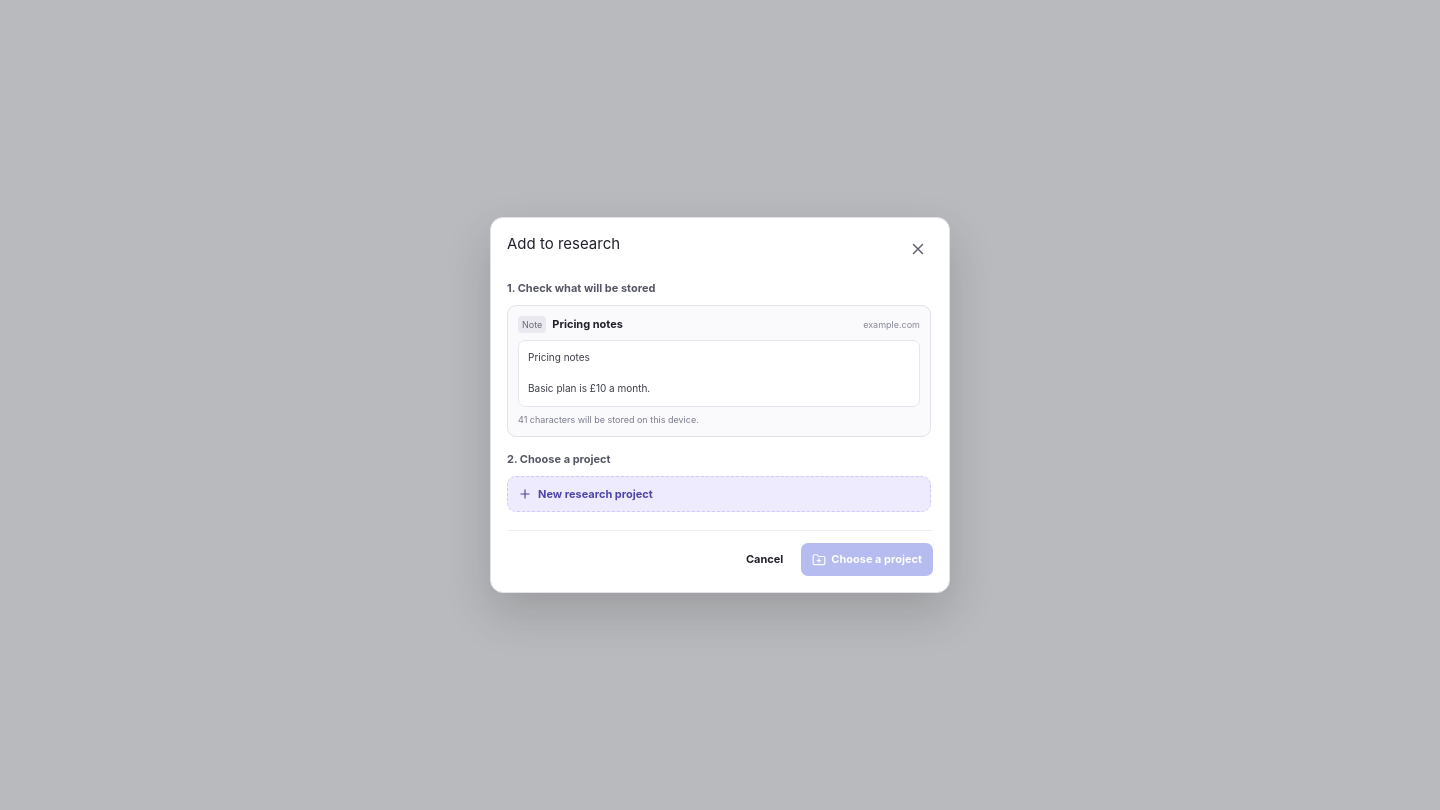
Test: Add to research dialog › creates a project from the dialog when none exist
Expected: the text named "Text that will be stored" is shown, [518, 340, 920, 407]
Expected: the button "Choose a project" is disabled, [801, 543, 933, 576]
Click the button "New research project": [595, 494] box [507, 476, 931, 512]
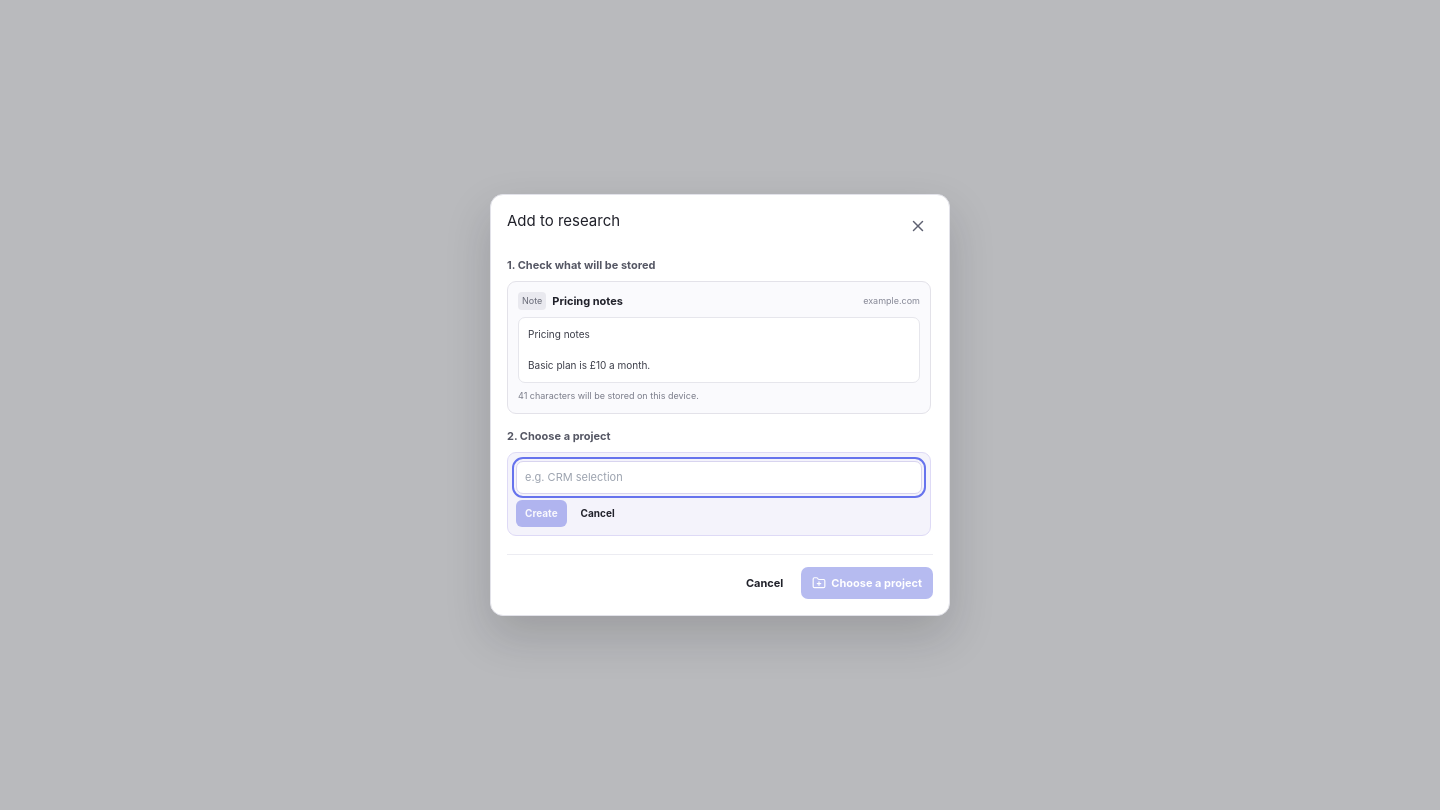
In the field named "Project name": [719, 478] box [516, 461, 922, 494], type "Pricing research"
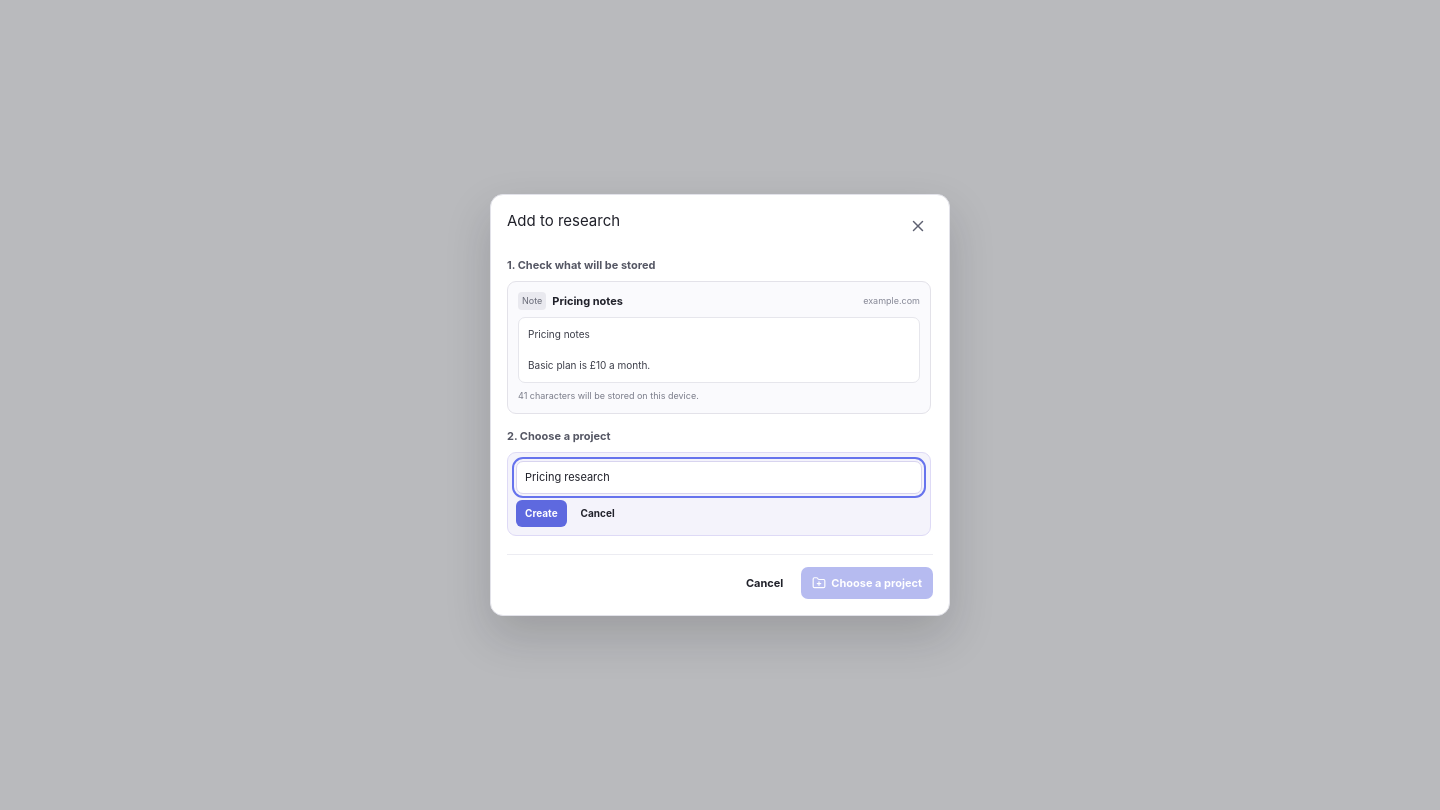
Click the button "Create": [541, 513] box [516, 500, 567, 527]
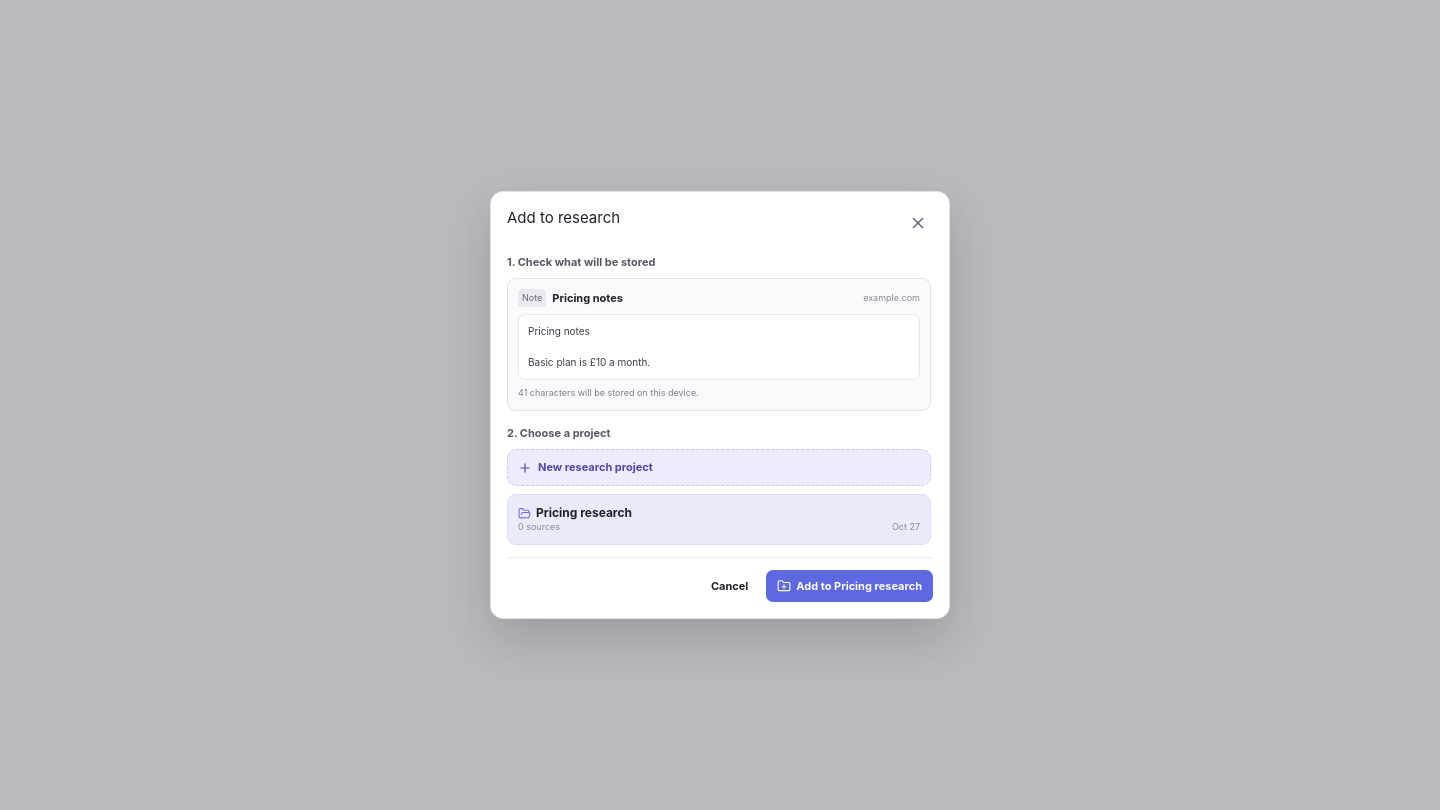
Click the button "Add to Pricing research": [850, 586] box [766, 570, 933, 602]
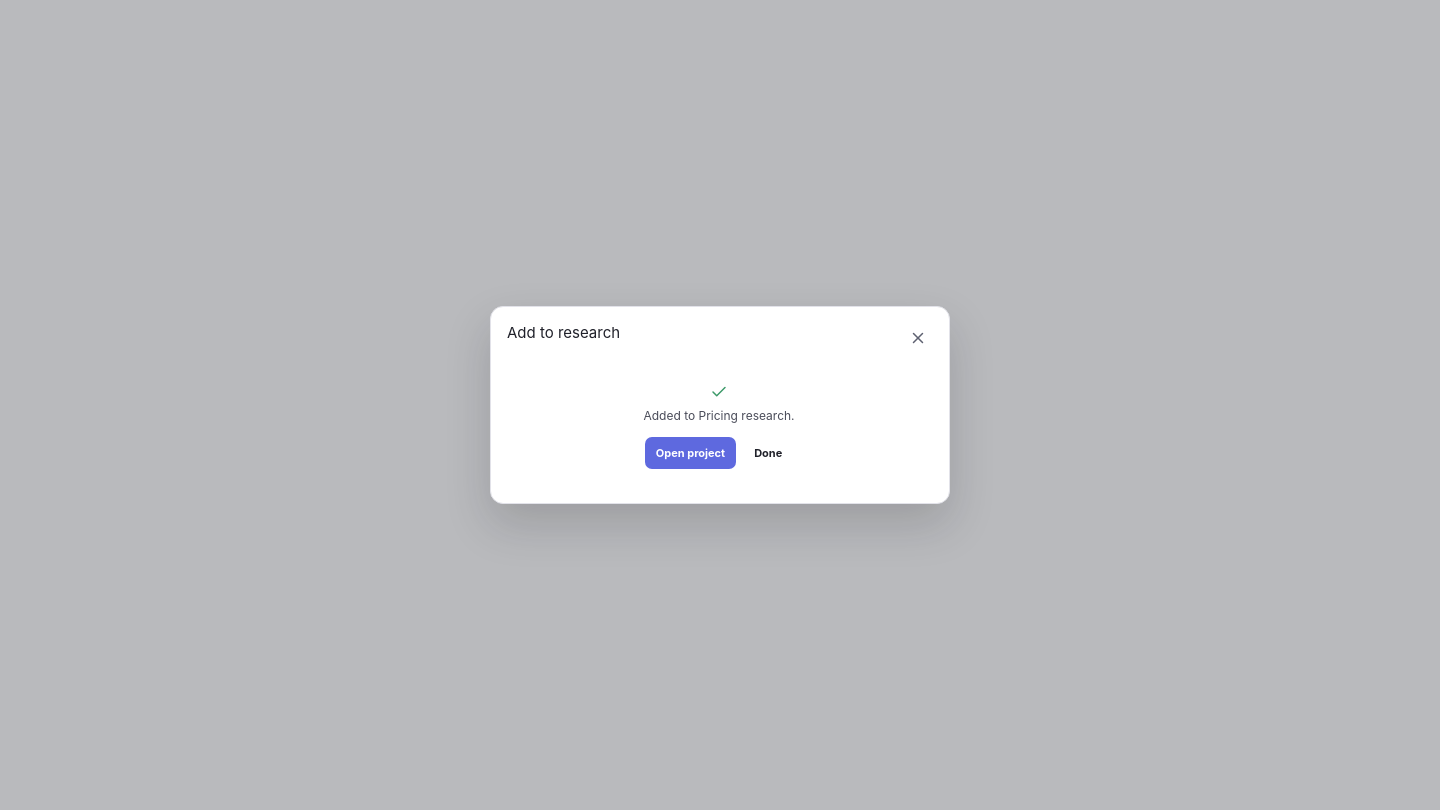
Result: the message shows "Added to Pricing research." at [644, 408, 795, 423]
